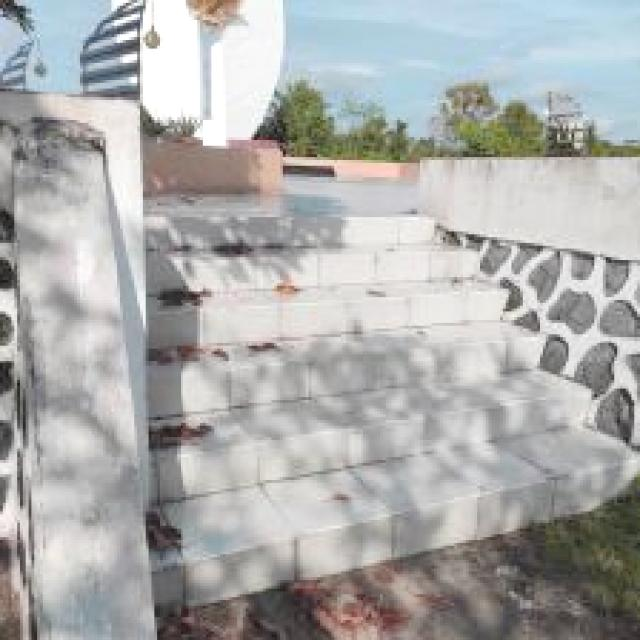upstair: (135, 201, 640, 612)
